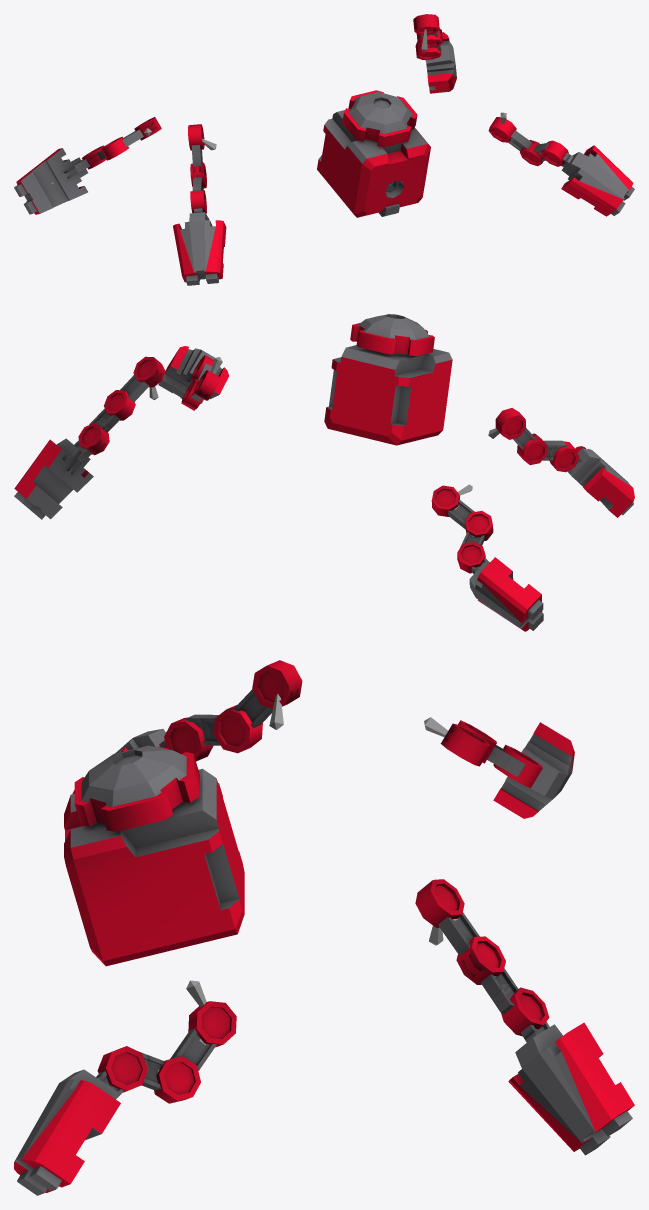
Rendered from Monster1_Die6.obj.
The picture shows the model from 3 angles, top to bottom: view 1: azimuth 30°, elevation 25°; view 2: azimuth 150°, elevation 25°; view 3: azimuth 270°, elevation 25°; orthographic projection. The views are drawn at different scales.
Visible parts, largest first — view 1: Box006, Object017, Object021, Object025, Object013, Object018, Object022, Object020, Object014, Object026, Object019, Object027 (+1 smaller); view 2: Box006, Object013, Object025, Object021, Object017, Object014, Object026, Object015, Object022, Object023, Object016, Object027 (+3 smaller); view 3: Box006, Object013, Object017, Object025, Object014, Object015, Object018, Object022, Object023, Object019, Object020, Object016 (+4 smaller).
Boxes of the visible parts, x1,y1,x2,y2 form: Box006: (317,90,430,217); Object017: (561,145,634,216); Object021: (173,212,226,285); Object025: (14,148,88,214); Object013: (426,32,456,93); Object018: (488,117,532,150); Object022: (188,124,204,166); Object020: (541,140,573,166); Object014: (413,14,439,38); Object026: (122,117,161,146); Object019: (520,140,548,166); Object027: (97,136,128,160); Box006: (324,314,452,445); Object013: (14,438,93,519); Object025: (469,557,543,631); Object021: (568,446,634,517); Object017: (158,346,228,403); Object014: (120,356,165,402); Object026: (431,485,474,529); Object015: (89,390,135,432); Object022: (495,408,536,449); Object023: (517,433,566,464); Object016: (74,423,109,462); Object027: (460,511,493,547); Box006: (64,745,244,966); Object013: (508,1022,634,1155); Object017: (14,1069,120,1195); Object025: (493,722,574,818); Object014: (415,879,479,955); Object015: (456,936,518,1013); Object018: (170,1001,236,1070); Object022: (233,660,302,728); Object023: (186,704,262,753); Object019: (138,1051,200,1103); Object020: (96,1046,148,1099); Object016: (501,987,549,1042).
Bounding box in the file's own units: 366 × 109 × 232.
